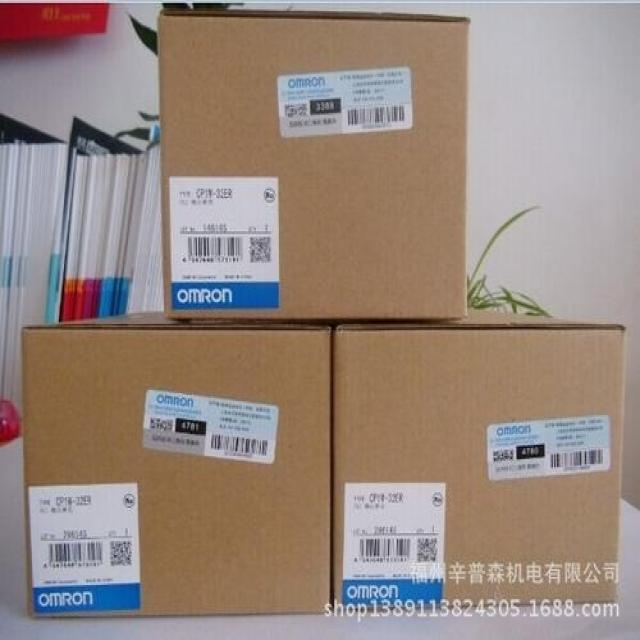box: (20, 311, 332, 621), (157, 11, 468, 321), (333, 310, 625, 613)
